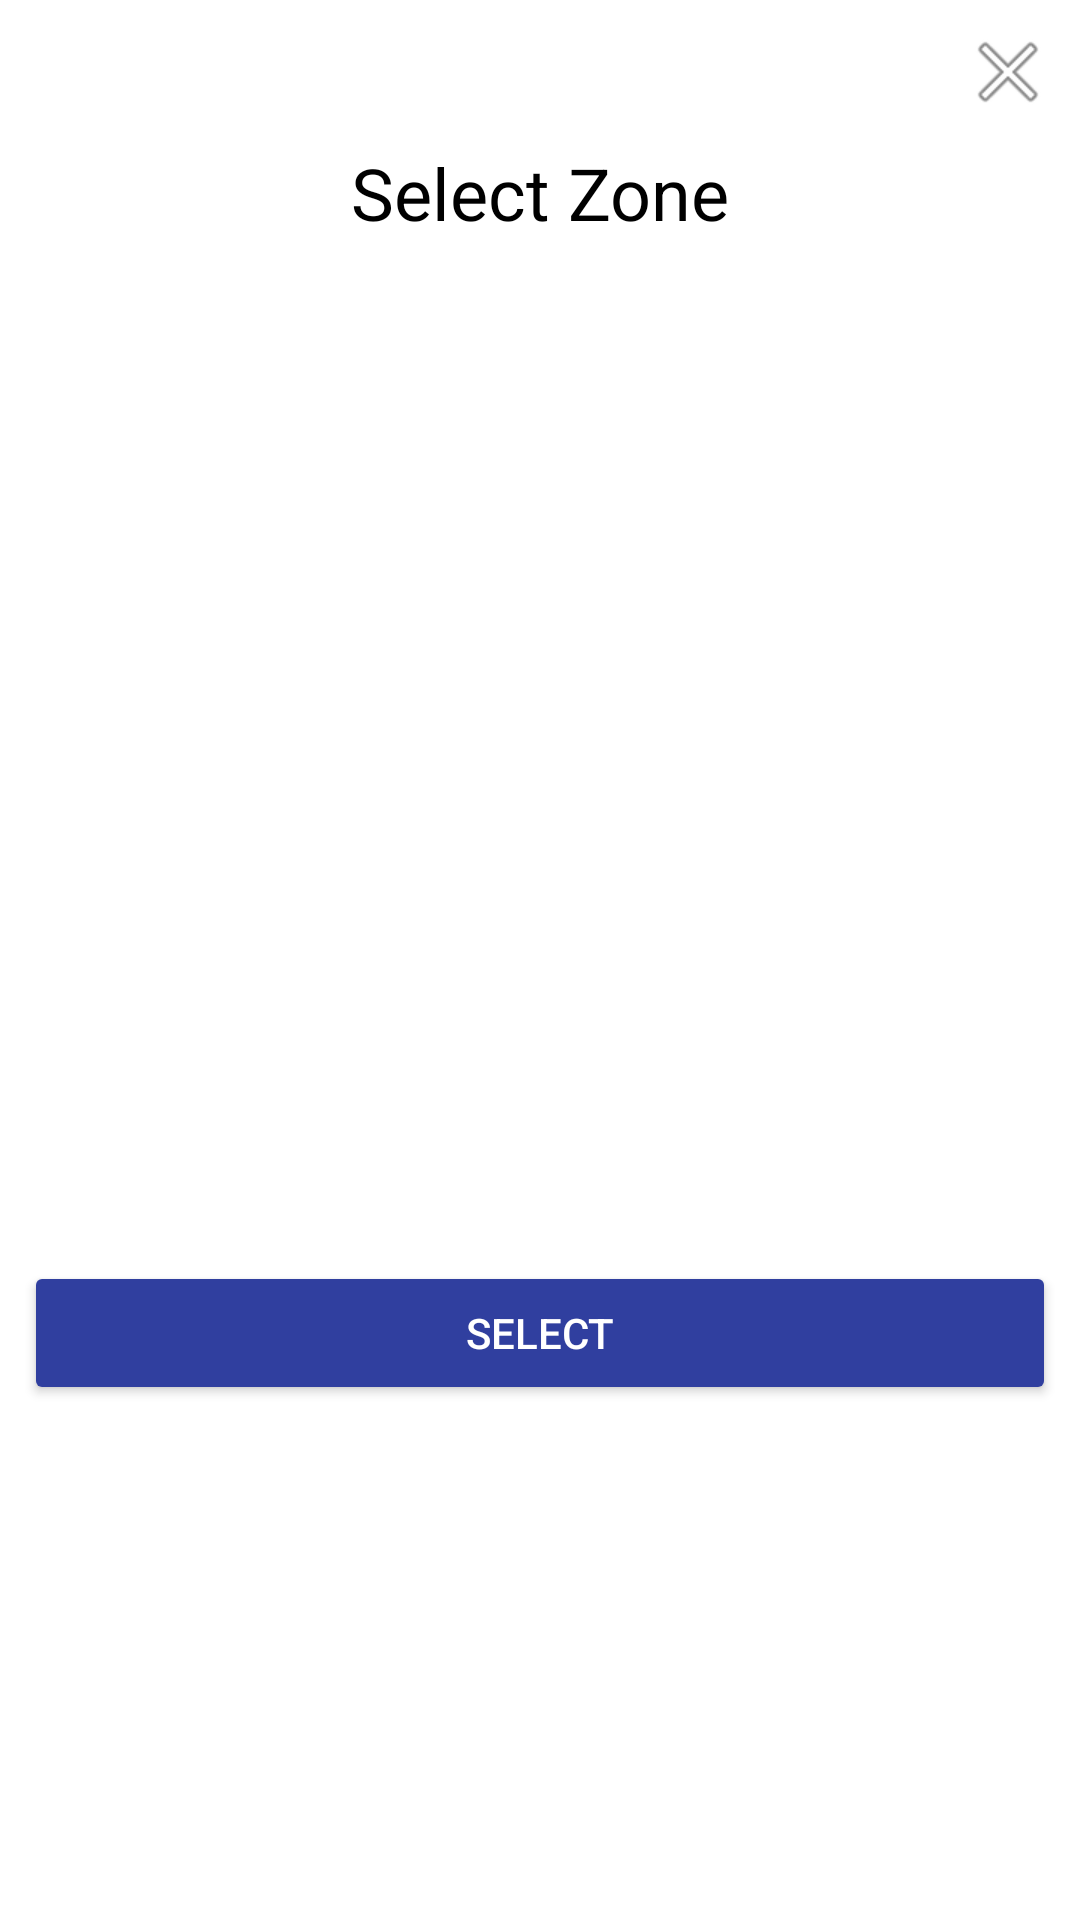

Icons on this 1080w x 1920h Android screen, each with the point to tap as (x=x, y=y):
close clear cancel: (x=1008, y=72)
